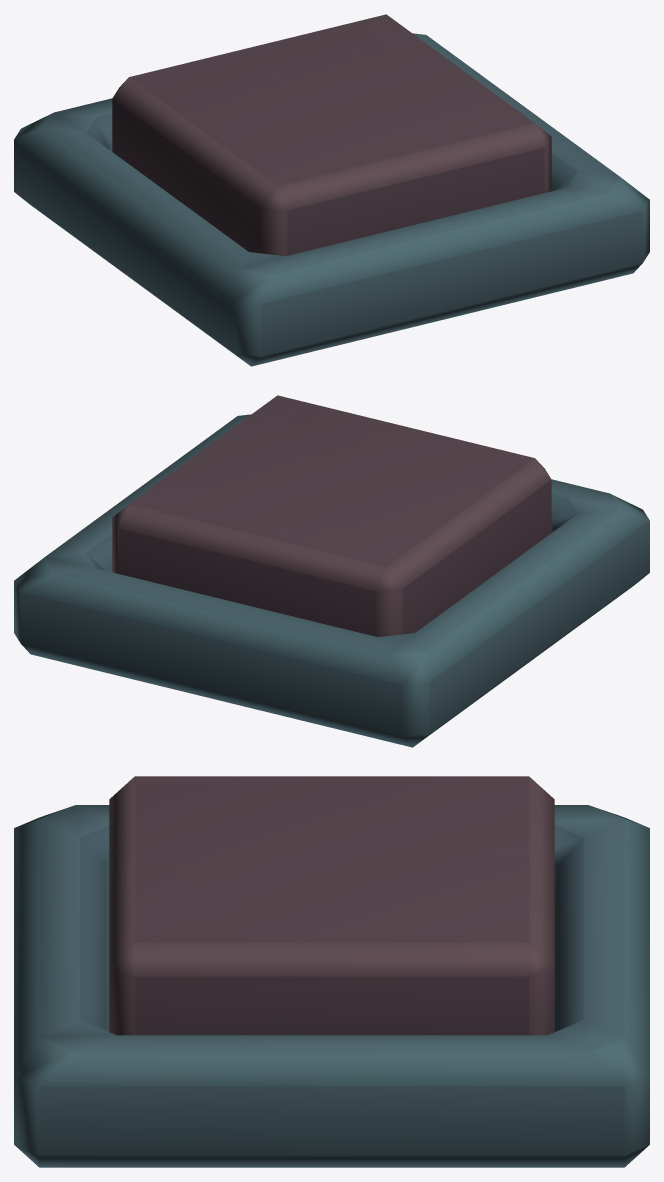
The model's file is switch_01.fbx.
3 renders of one model, top to bottom at view 1: azimuth 30°, elevation 25°; view 2: azimuth 150°, elevation 25°; view 3: azimuth 270°, elevation 25°, orthographic. The views are drawn at different scales.
Parts seen in each view (by area): view 1: switch_01, switch_plate; view 2: switch_01, switch_plate; view 3: switch_01, switch_plate.
Part boxes in pixels (x1,y1,x2,y2): switch_01: (14,33,649,366); switch_plate: (112,14,551,256); switch_01: (14,414,649,747); switch_plate: (112,395,551,637); switch_01: (14,805,649,1167); switch_plate: (109,776,554,1035).
Bounding box in the file's own units: 125 × 40 × 125.
